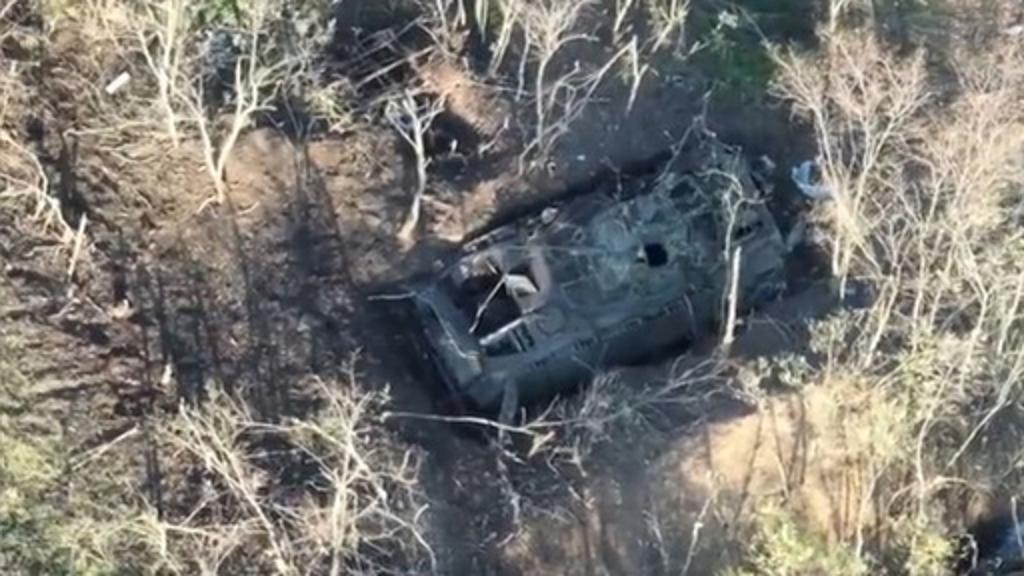APC-IFV: (384, 130, 790, 426)
